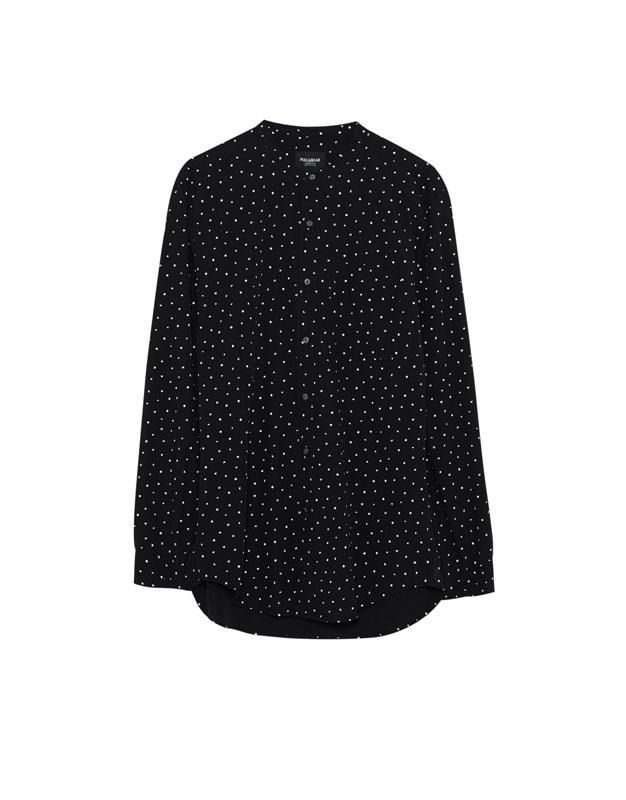teeshirt: (113, 117, 509, 652)
